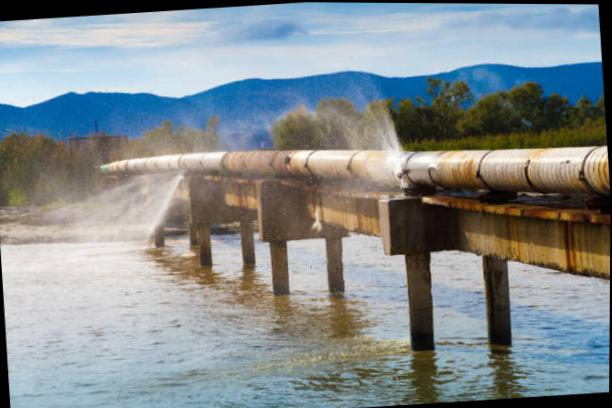leak: (0, 164, 198, 306), (313, 41, 408, 190)
